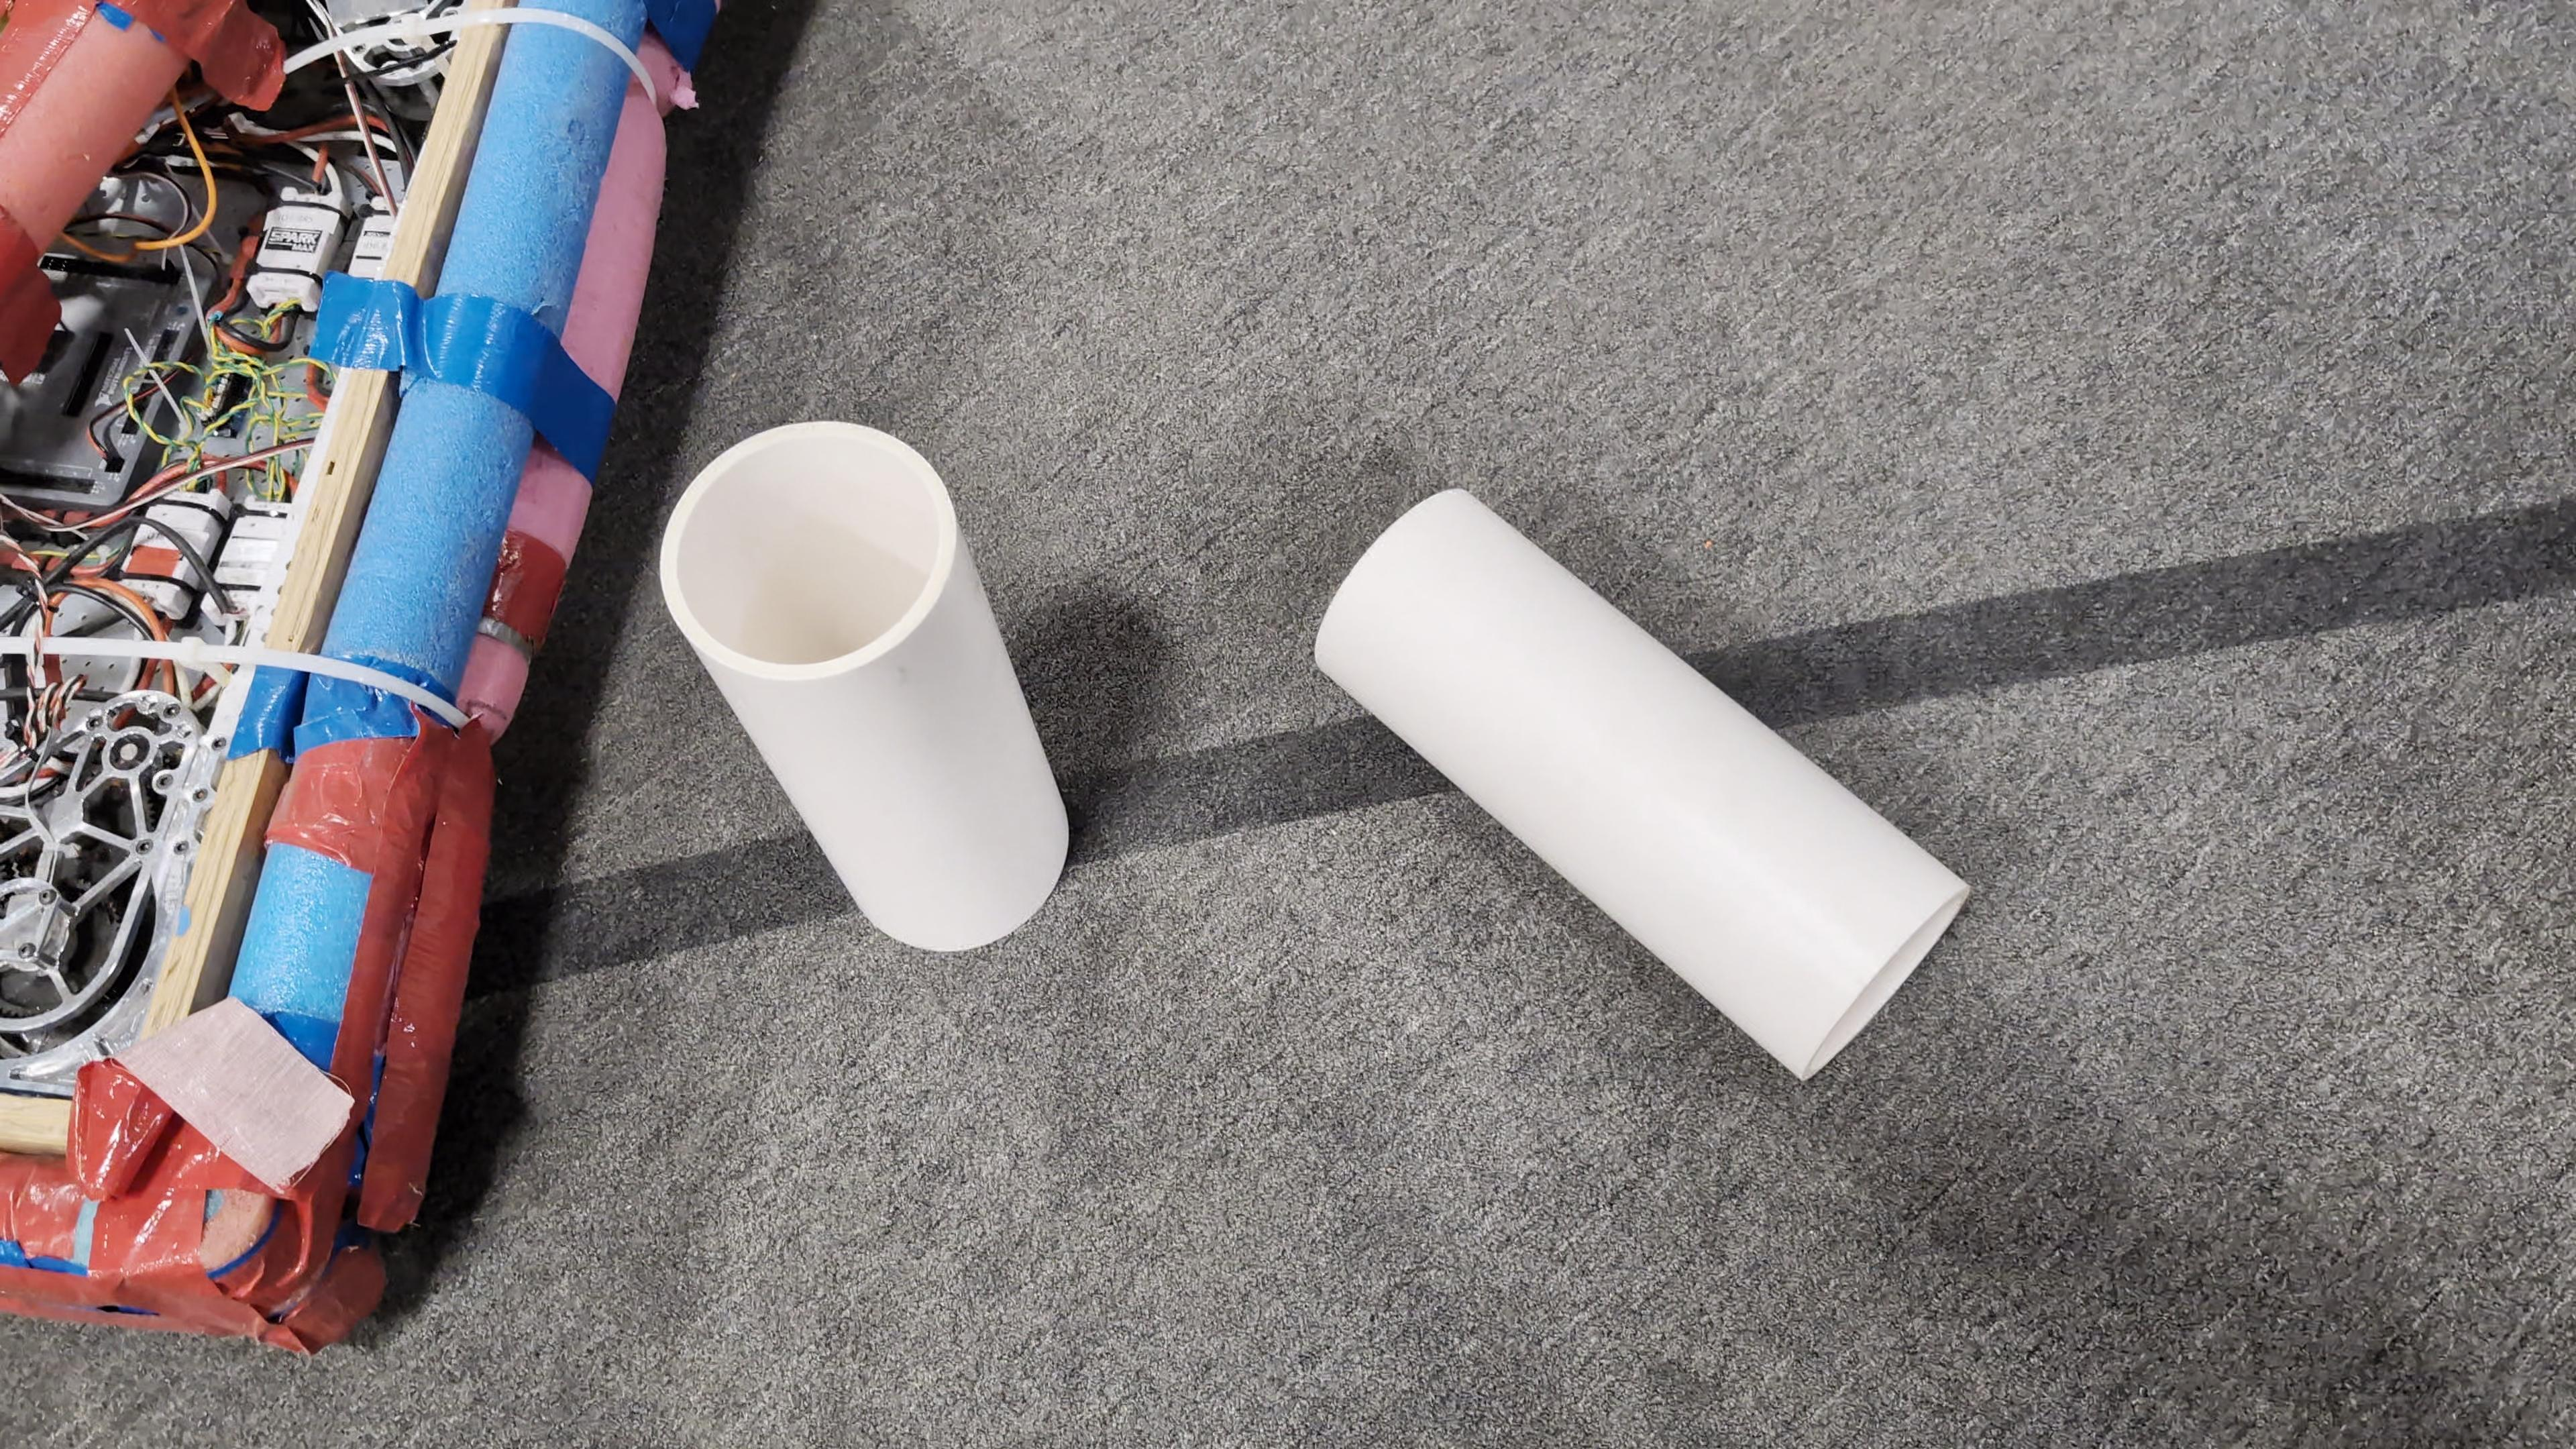coral: (1313, 481, 1974, 1085), (655, 416, 1072, 954)
